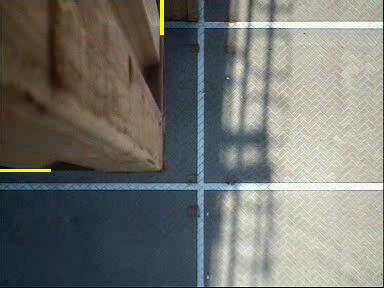groundmarker_2: (195, 158, 246, 226)
